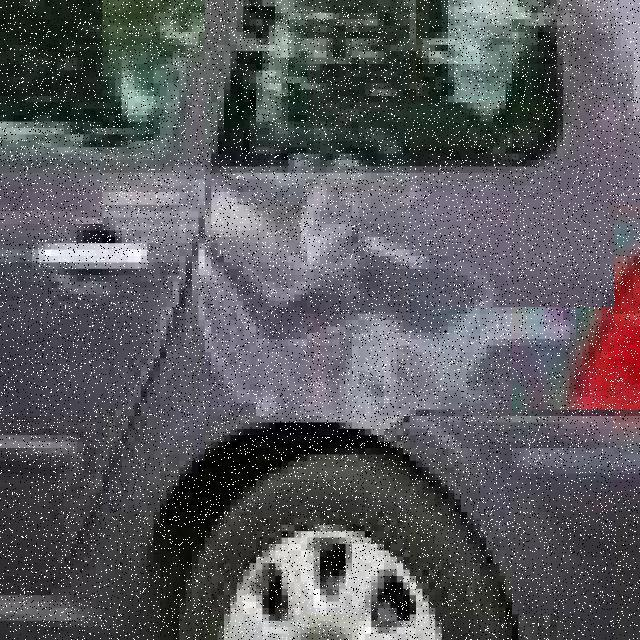quaterpanel-dent: (179, 172, 589, 518)
